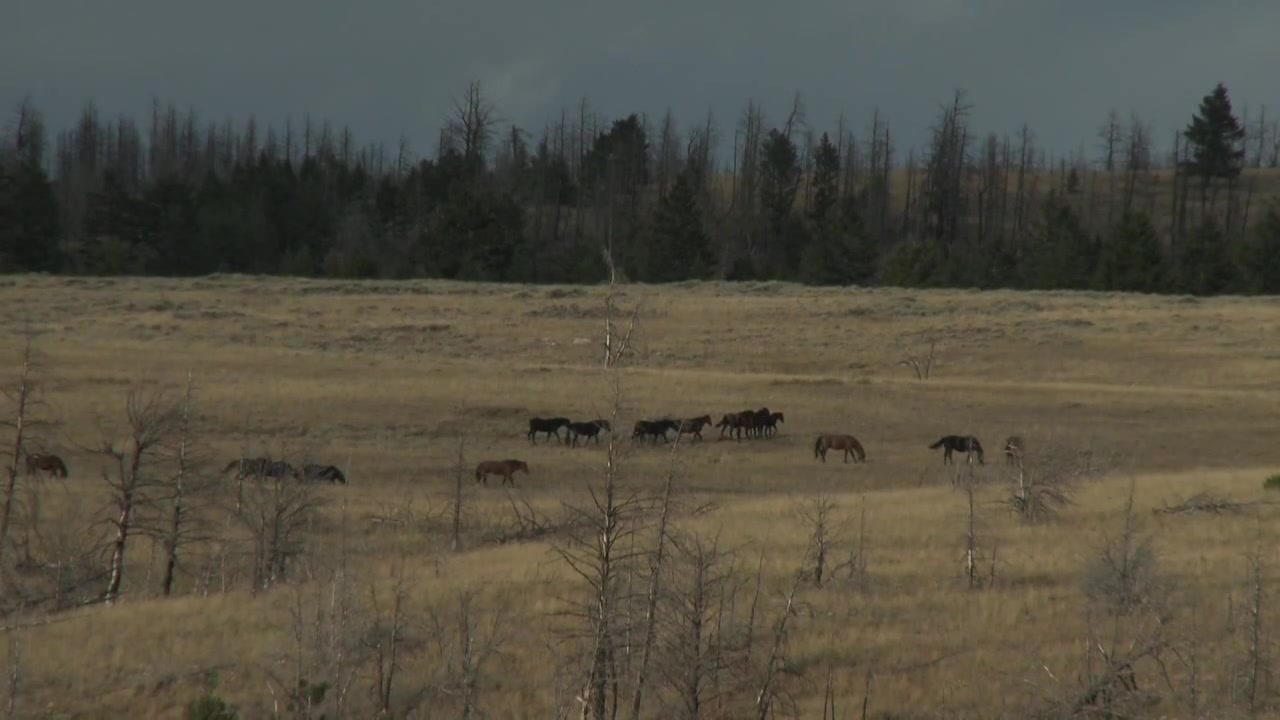horse: (228, 454, 304, 485), (811, 433, 875, 467), (473, 456, 533, 491), (934, 433, 987, 466), (565, 417, 617, 450), (25, 447, 69, 483), (522, 414, 571, 444), (300, 465, 355, 491), (632, 415, 679, 445), (670, 414, 714, 444), (720, 409, 759, 442), (748, 404, 775, 438), (766, 408, 791, 438)
